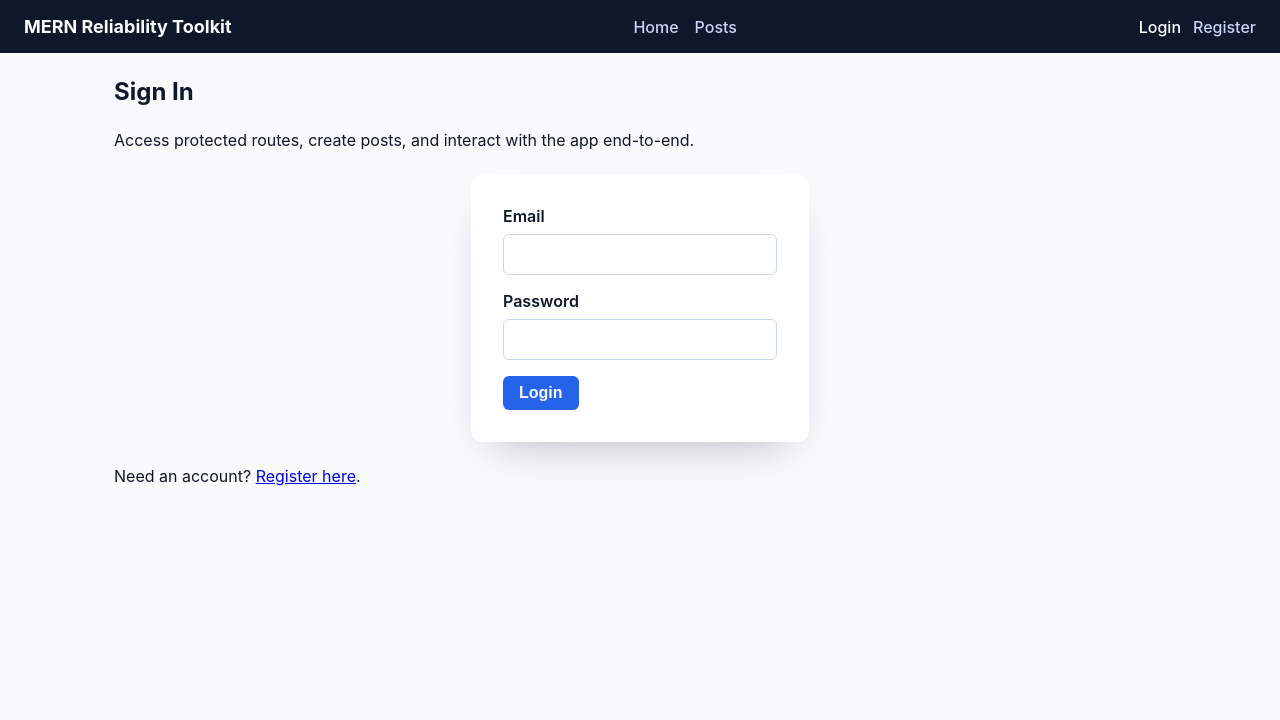
Test: Login Flow E2E Tests › should show validation errors for invalid email
Step 1. Type "invalid-email" into the field named "email" → point(640, 255), box [503, 234, 777, 275]
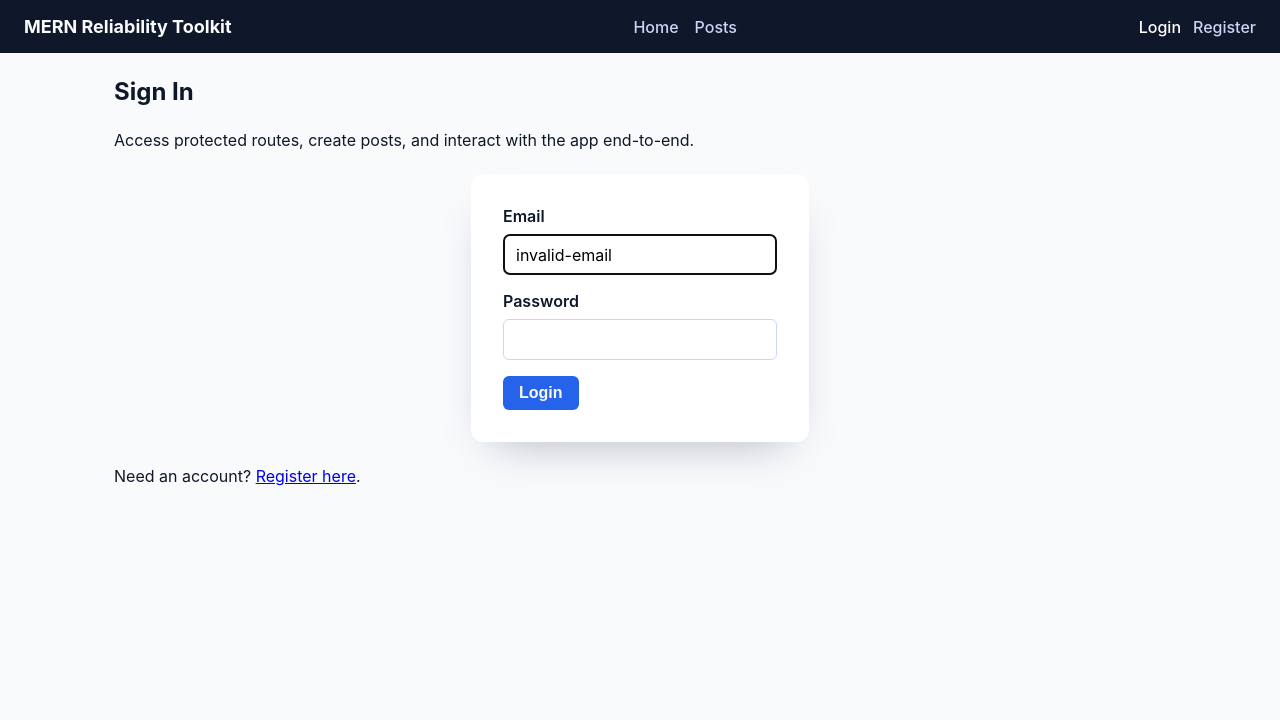
Step 2. Type "Password123" into the password field named "password" → point(640, 340), box [503, 319, 777, 360]
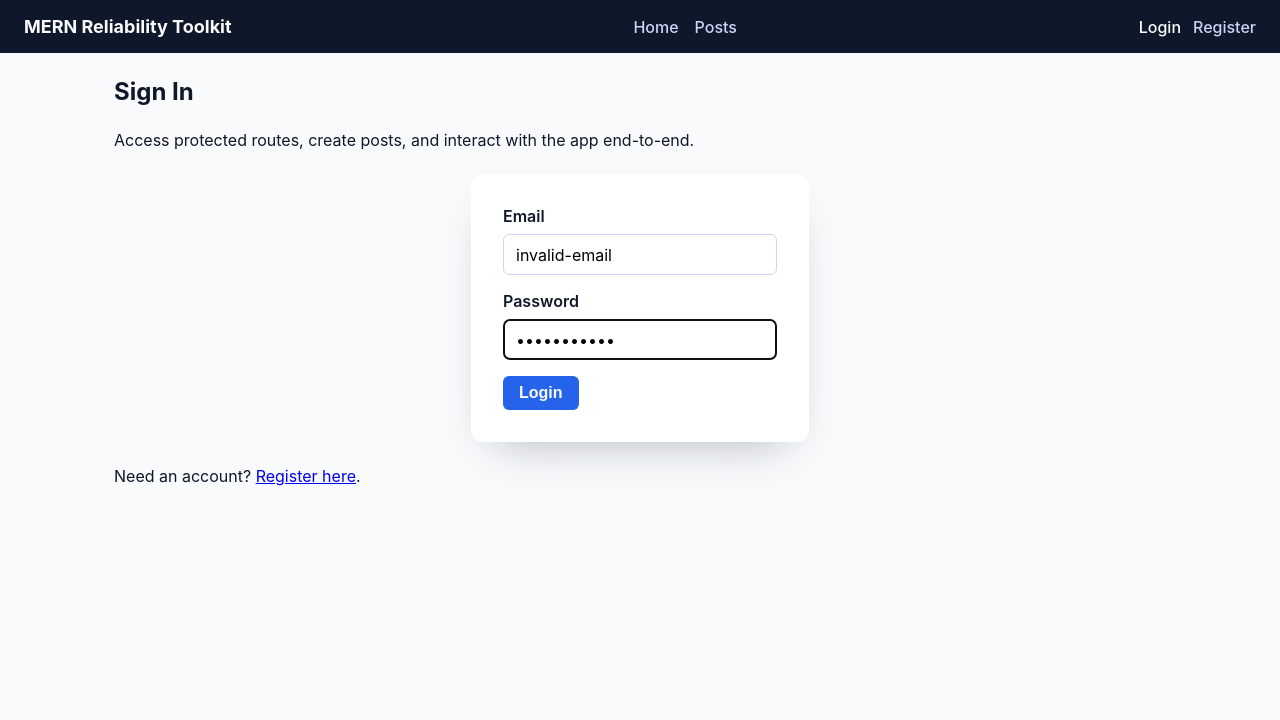
Step 3. Click the submit button → point(541, 393), box [503, 376, 579, 410]
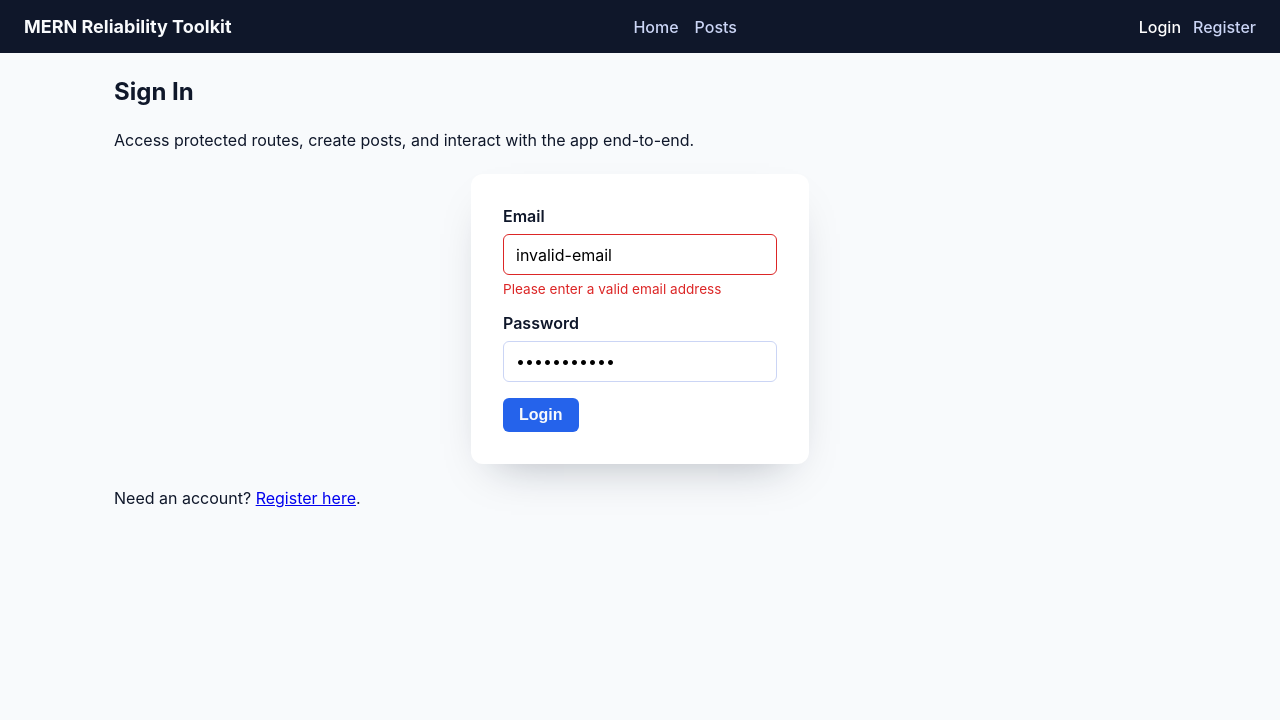
Now the text "Please enter a valid email address" is shown, box [503, 281, 722, 297]
